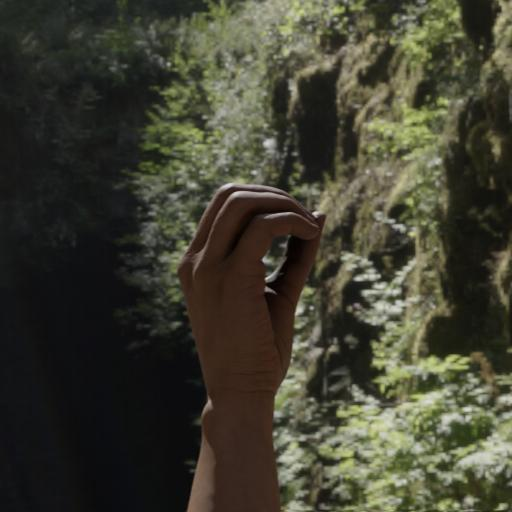O: (161, 164, 335, 512)
